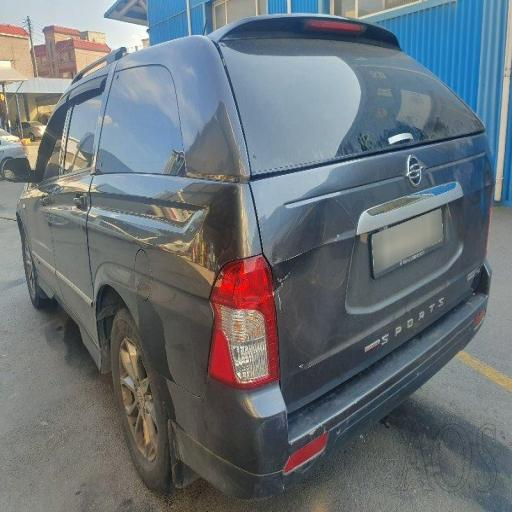dent: (85, 147, 246, 283)
scratch: (242, 242, 450, 360)
